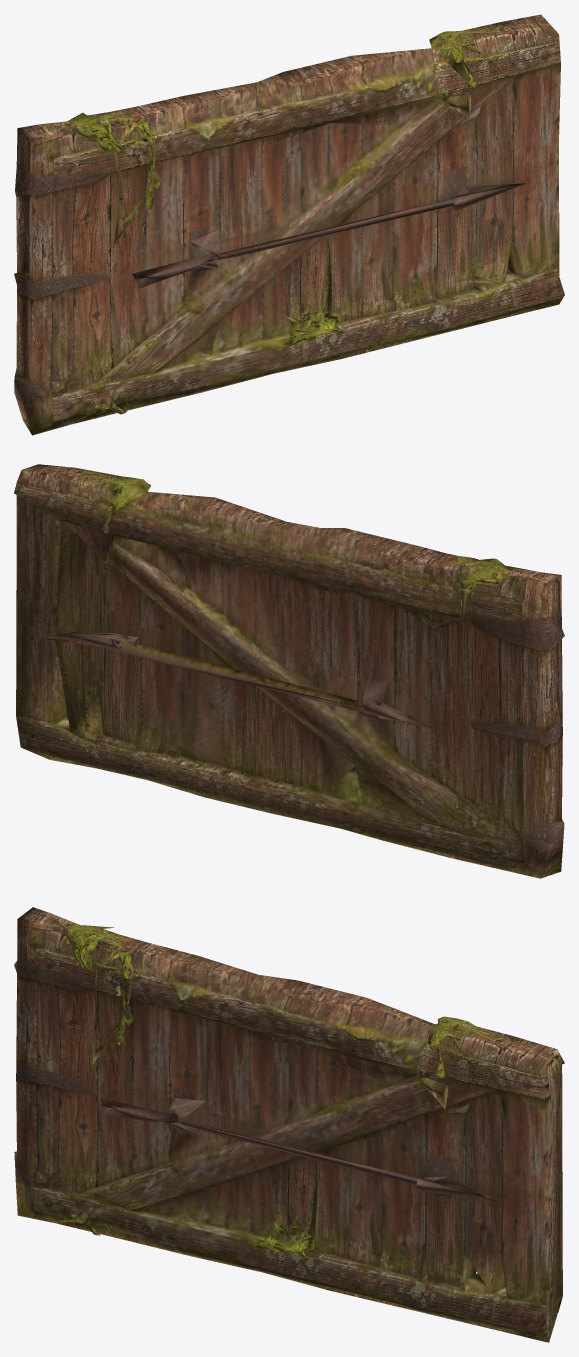
The model's file is cut_gate.glb.
3 views of the same model, one above another, from view 1: azimuth 30°, elevation 25°; view 2: azimuth 150°, elevation 25°; view 3: azimuth 330°, elevation 25° (orthographic).
Parts seen in each view (by area): view 1: rustic wooden gate 3d model; view 2: rustic wooden gate 3d model; view 3: rustic wooden gate 3d model.
Boxes of the visible parts, x1,y1,x2,y2 form: rustic wooden gate 3d model: (14,14,564,435); rustic wooden gate 3d model: (14,464,564,878); rustic wooden gate 3d model: (14,907,564,1342).
Bounding box in the file's own units: 5.12 × 2.7 × 0.7338.
1 material, 1 textured.
